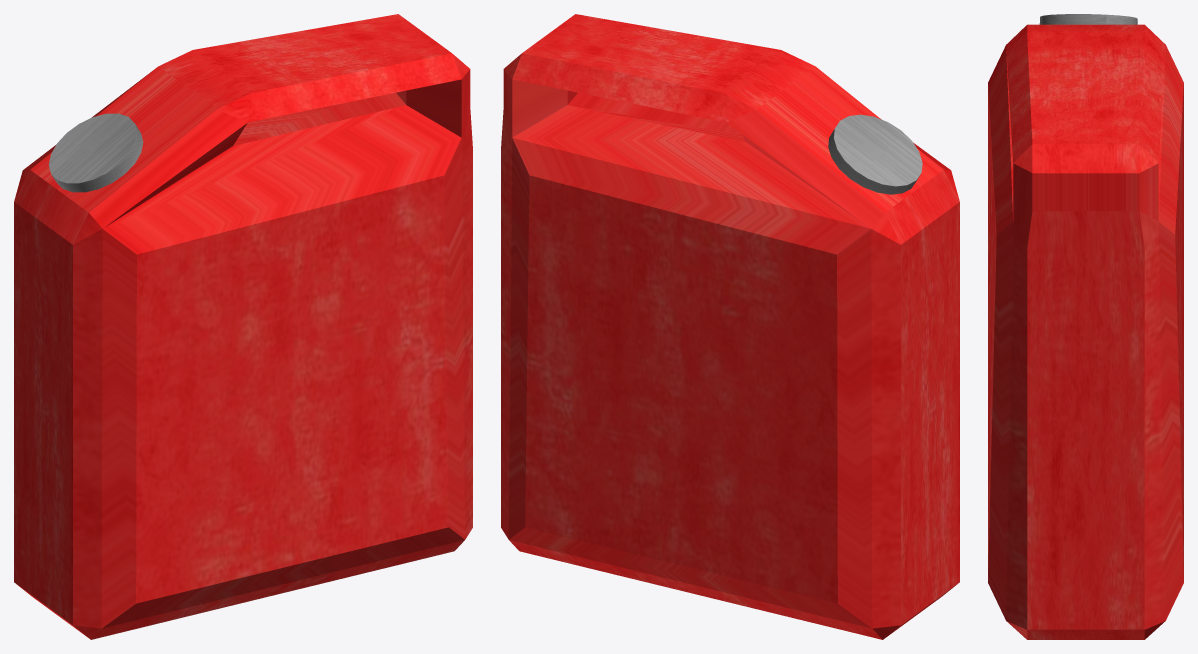
Rendered from PU_Benzine.fbx.
3 views of the same model, side by side, from view 1: azimuth 30°, elevation 25°; view 2: azimuth 150°, elevation 25°; view 3: azimuth 270°, elevation 25° (orthographic).
Parts seen in each view (by area): view 1: pCube1, pCylinder1; view 2: pCube1, pCylinder1; view 3: pCube1, pCylinder1.
Boxes of the visible parts, x1,y1,x2,y2 form: pCube1: (14,14,472,639); pCylinder1: (49,113,143,192); pCube1: (501,14,959,639); pCylinder1: (828,114,922,194); pCube1: (988,24,1183,639); pCylinder1: (1039,14,1137,24).
Size of the model in its own units: 3.11 by 3.77 by 1.32.
Materials: 2 (2 with a texture image).
